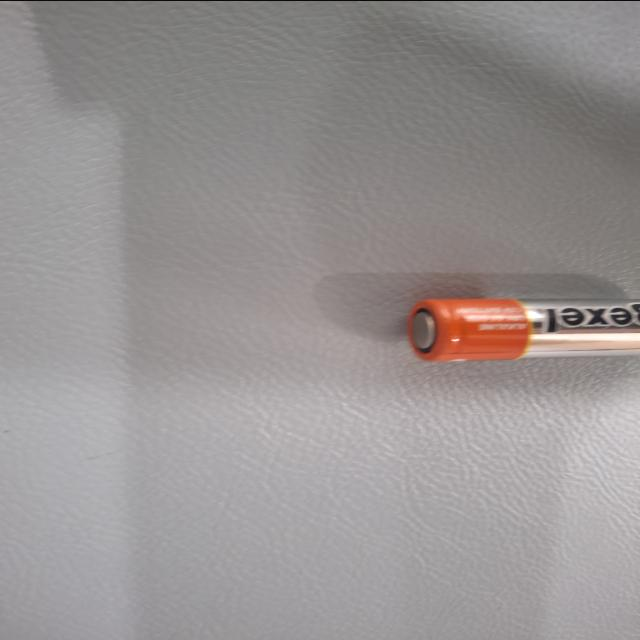AA: (371, 466, 458, 640)
